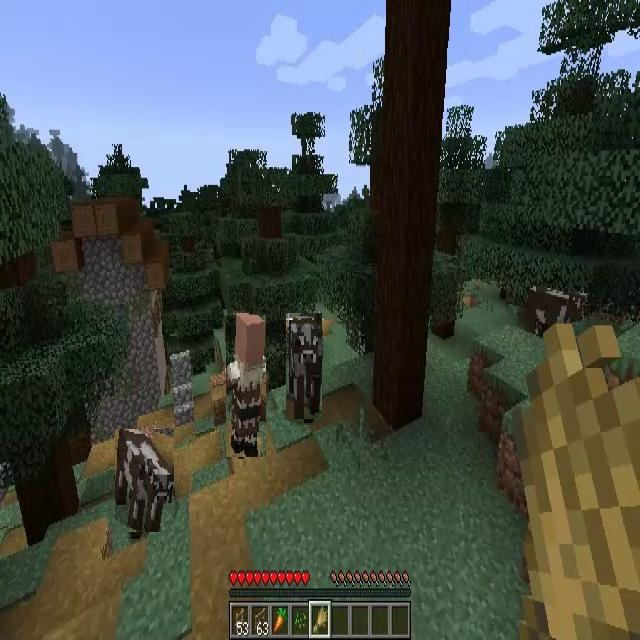cow: (115, 429, 174, 532), (528, 282, 586, 351), (286, 313, 322, 419)
people: (226, 315, 266, 457)
